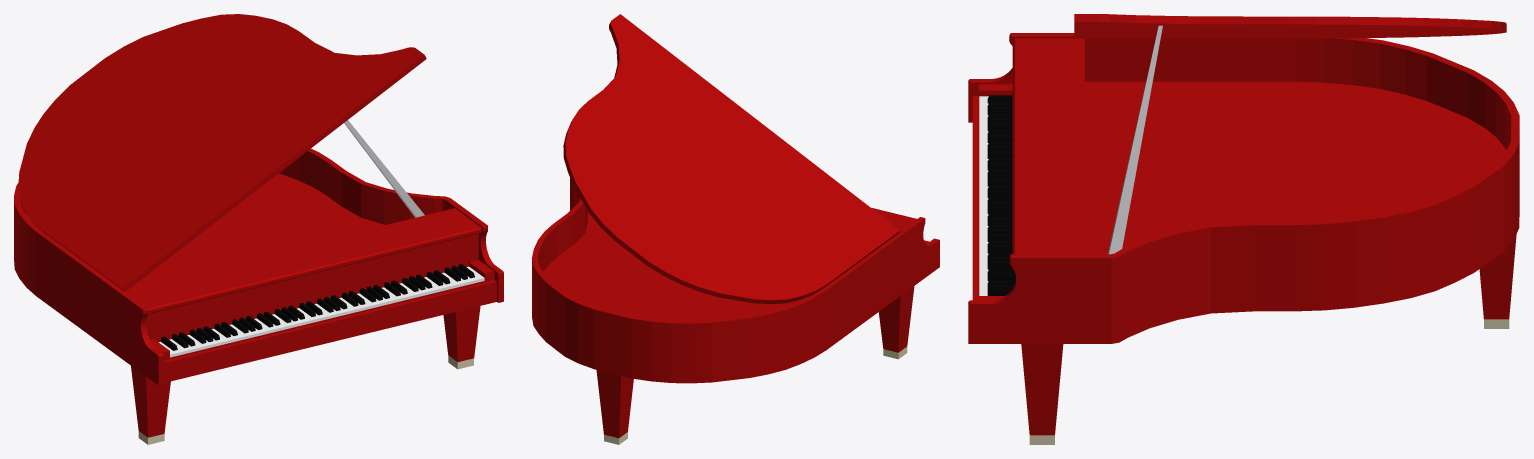
The model's file is babygrand.glb.
3 renders of one model, left to right at view 1: azimuth 30°, elevation 25°; view 2: azimuth 150°, elevation 25°; view 3: azimuth 270°, elevation 25°, orthographic. The views are drawn at different scales.
Parts seen in each view (by area): view 1: Cube.040, Cube.012, Cube.041, Cube.037; view 2: Cube.040; view 3: Cube.040, Cube.012, Cube.037, Cube.041.
Boxes of the visible parts, box(x1,y1,x2,y2) form: Cube.040: box(14, 14, 503, 437); Cube.012: box(161, 264, 474, 350); Cube.041: box(159, 266, 484, 357); Cube.037: box(344, 120, 424, 217); Cube.040: box(532, 14, 939, 438); Cube.040: box(968, 14, 1519, 435); Cube.012: box(987, 95, 1016, 295); Cube.037: box(1108, 25, 1162, 254); Cube.041: box(979, 96, 988, 295).
Bounding box in the file's own units: 25.2 × 21.39 × 26.09.
